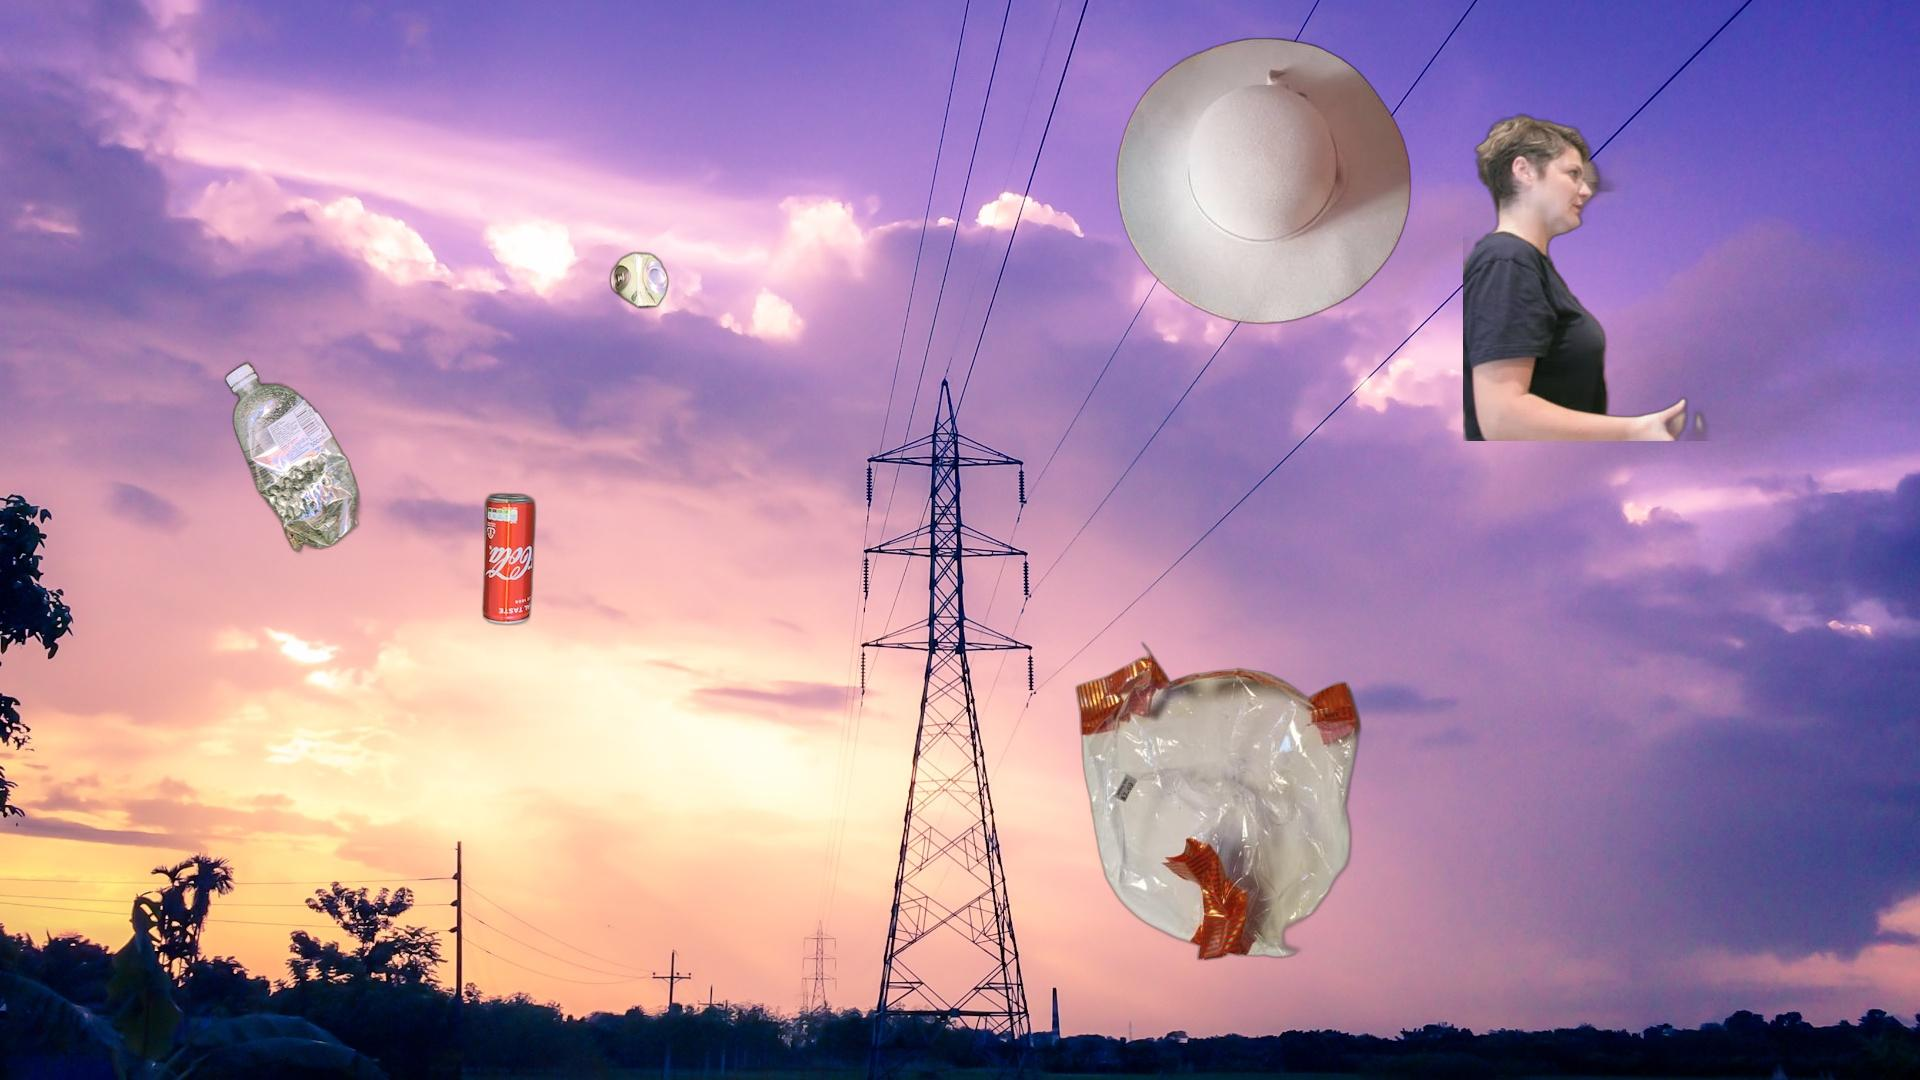clothes: (1113, 33, 1414, 328)
metal-cans: (477, 487, 541, 632), (607, 247, 673, 313)
paper: (1072, 640, 1365, 963)
plastic-bottles: (222, 353, 365, 559)
trashbox-cardboard: (1462, 111, 1920, 440)
